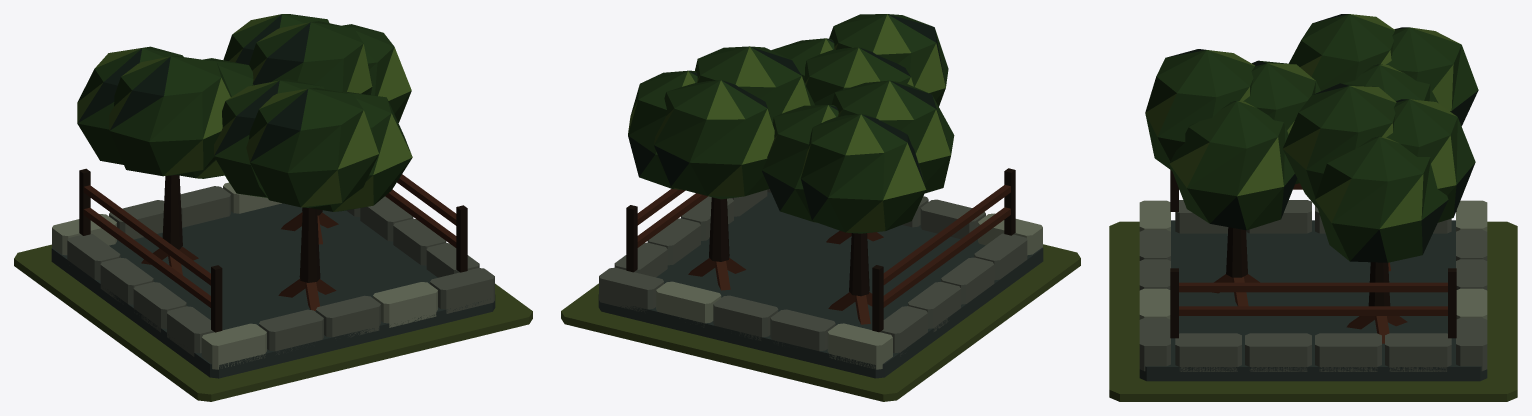
The model's file is grove_t2.glb.
The picture shows the model from 3 angles, left to right: view 1: azimuth 30°, elevation 25°; view 2: azimuth 150°, elevation 25°; view 3: azimuth 270°, elevation 25°; orthographic projection. The views are drawn at different scales.
Parts seen in each view (by area): view 1: MMR | grove | T02 Architecture.001, MMR | grove | Tier 02 Ground.001; view 2: MMR | grove | T02 Architecture.001, MMR | grove | Tier 02 Ground.001; view 3: MMR | grove | T02 Architecture.001, MMR | grove | Tier 02 Ground.001.
Part boxes in pixels (x1,y1,x2,y2): MMR | grove | T02 Architecture.001: (51,14,495,378); MMR | grove | Tier 02 Ground.001: (14,244,532,401); MMR | grove | T02 Architecture.001: (598,14,1043,378); MMR | grove | Tier 02 Ground.001: (561,244,1080,401); MMR | grove | T02 Architecture.001: (1139,14,1487,381); MMR | grove | Tier 02 Ground.001: (1109,221,1517,401).
Bounding box in the file's own units: 2.35 × 1.64 × 2.35.
1 material, 1 textured.
